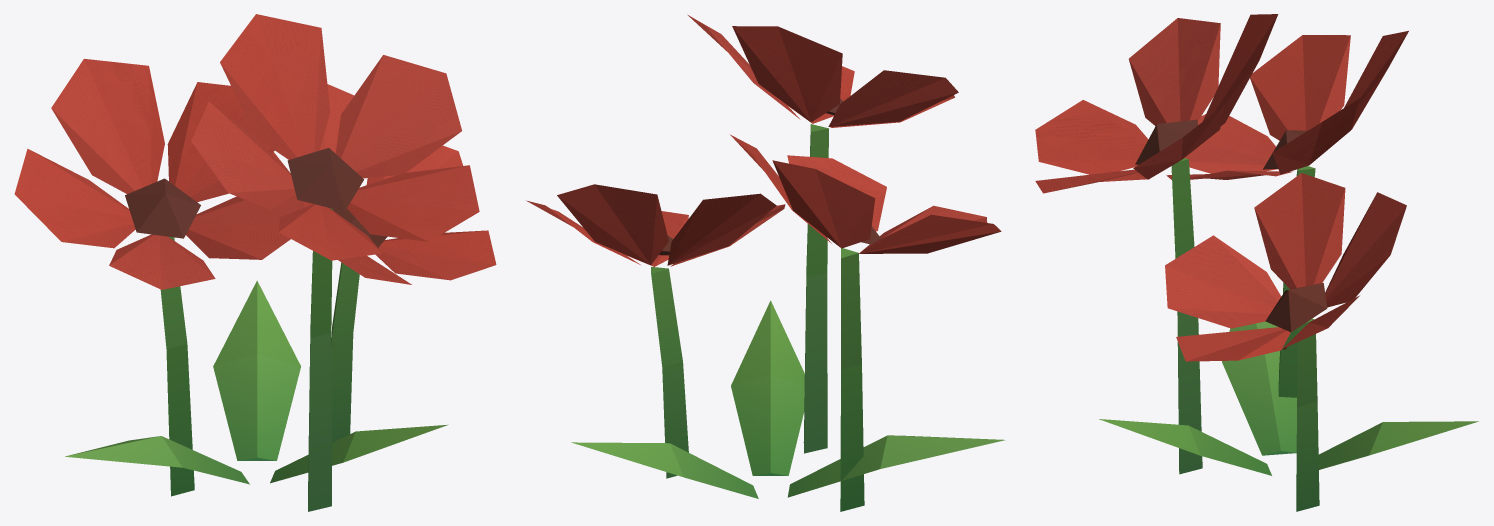
Rendered from plant_flowers_red_v3.fbx.
The picture shows the model from 3 angles, left to right: view 1: azimuth 30°, elevation 25°; view 2: azimuth 150°, elevation 25°; view 3: azimuth 270°, elevation 25°; orthographic projection. The views are drawn at different scales.
Visible parts, largest first — view 1: plant_flowers_red_v3; view 2: plant_flowers_red_v3; view 3: plant_flowers_red_v3.
Part boxes in pixels (bbox=[...]): plant_flowers_red_v3: bbox=[14, 14, 496, 511]; plant_flowers_red_v3: bbox=[526, 14, 1005, 511]; plant_flowers_red_v3: bbox=[1035, 14, 1478, 511].
Size of the model in its own units: 264 by 254 by 228.
